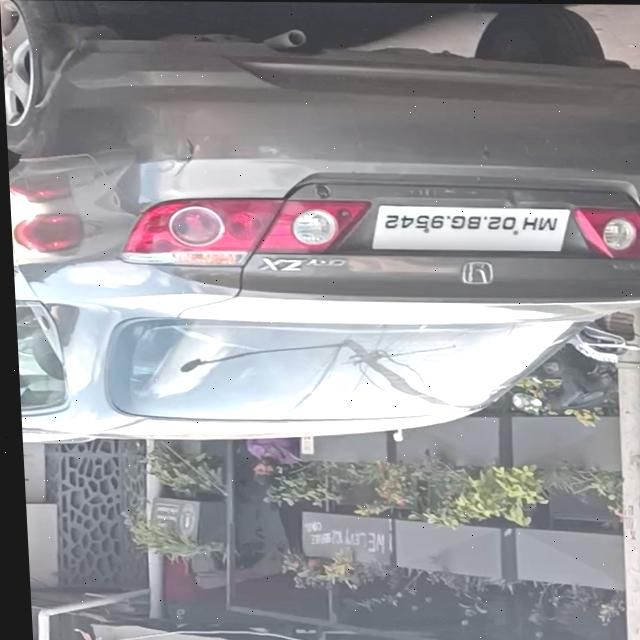plate: (369, 202, 567, 253)
